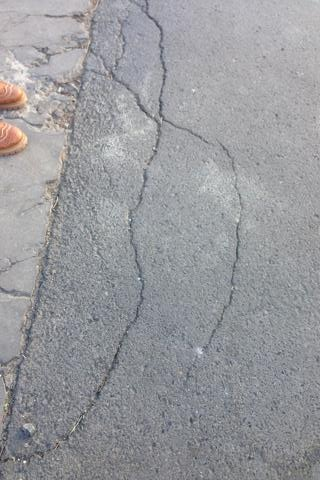A: (32, 1, 244, 460)
